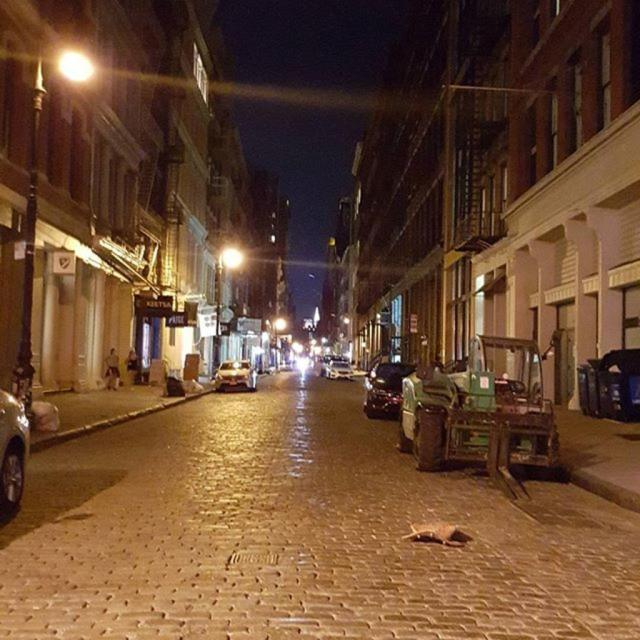car: (210, 358, 259, 392), (326, 359, 355, 380), (278, 358, 293, 371)
